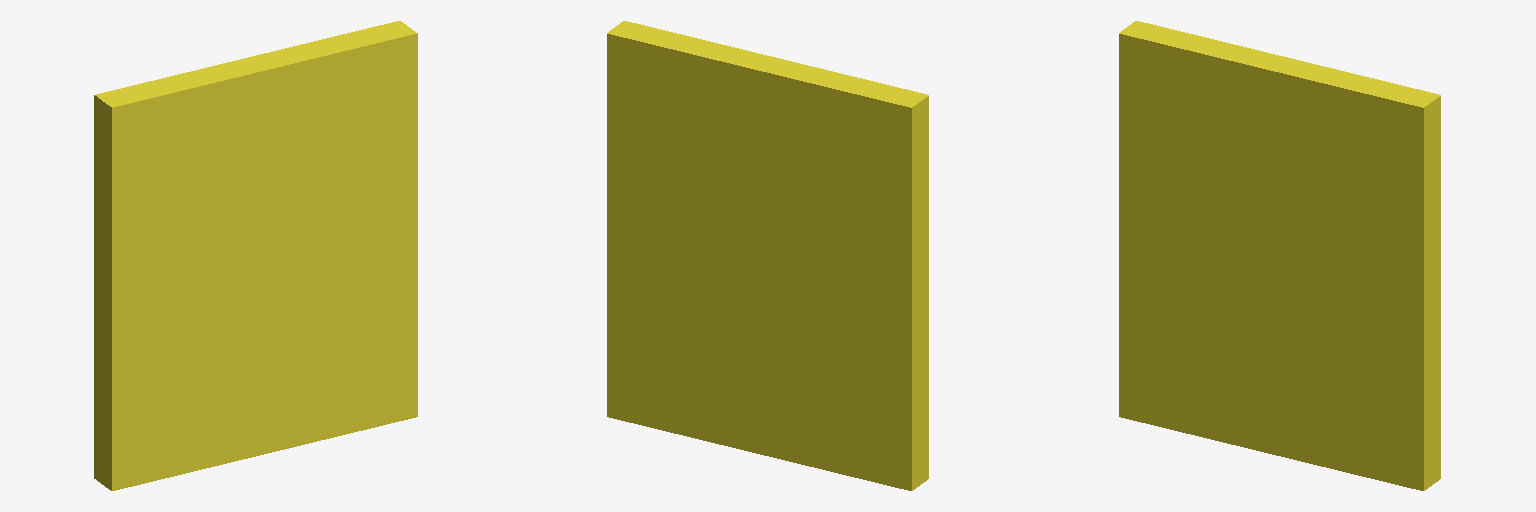
The robot description file, URDF, robot "fetch":
<robot name="fetch">
  <link name="base_link">
    <inertial>
      <origin rpy="0 0 0" xyz="-0.0036 0.0 0.0014" />
      <mass value="70.1294" />
      <inertia ixx="1.225" ixy="0.0099" ixz="0.0062" iyy="1.2853" iyz="-0.0034" izz="0.987" />
    </inertial>
    <visual>
      <origin rpy="0 0 0" xyz="0 0 0" />
      <geometry>
        <mesh filename="package://robowflex_resources/fetch/meshes/base_link.dae" />
      </geometry>
      <material name="">
        <color rgba="0.356 0.361 0.376 1" />
      </material>
    </visual>
    <collision>
      <origin rpy="0 0 0" xyz="0 0 0" />
      <geometry>
        <mesh filename="package://robowflex_resources/fetch/meshes/base_link_collision.STL" />
      </geometry>
    </collision>
  </link>
  <link name="r_wheel_link">
    <inertial>
      <origin rpy="0 0 0" xyz="0 0 0" />
      <mass value="4.3542" />
      <inertia ixx="0.0045" ixy="0" ixz="0" iyy="0.005" iyz="0" izz="0.0045" />
    </inertial>
    <visual>
      <origin rpy="0 0 0" xyz="0 0 0" />
      <geometry>
        <mesh filename="package://robowflex_resources/fetch/meshes/r_wheel_link.STL" />
      </geometry>
      <material name="">
        <color rgba="0.086 0.506 0.767 1" />
      </material>
    </visual>
    <collision>
      <origin rpy="0 0 0" xyz="0 0 0" />
      <geometry>
        <mesh filename="package://robowflex_resources/fetch/meshes/r_wheel_link_collision.STL" />
      </geometry>
    </collision>
  </link>
  <joint name="r_wheel_joint" type="continuous">
    <origin rpy="-6.123E-17 0 0" xyz="0.0012914 -0.18738 0.055325" />
    <parent link="base_link" />
    <child link="r_wheel_link" />
    <axis xyz="0 1 0" />
  <limit effort="8.85" velocity="17.4" /></joint>
  <link name="l_wheel_link">
    <inertial>
      <origin rpy="0 0 0" xyz="0 0 0" />
      <mass value="4.3542" />
      <inertia ixx="0.0045" ixy="0" ixz="0" iyy="0.005" iyz="0" izz="0.0045" />
    </inertial>
    <visual>
      <origin rpy="0 0 0" xyz="0 0 0" />
      <geometry>
        <mesh filename="package://robowflex_resources/fetch/meshes/l_wheel_link.STL" />
      </geometry>
      <material name="">
        <color rgba="0.086 0.506 0.767 1" />
      </material>
    </visual>
    <collision>
      <origin rpy="0 0 0" xyz="0 0 0" />
      <geometry>
        <mesh filename="package://robowflex_resources/fetch/meshes/l_wheel_link_collision.STL" />
      </geometry>
    </collision>
  </link>
  <joint name="l_wheel_joint" type="continuous">
    <origin rpy="-6.123E-17 0 0" xyz="0.0012914 0.18738 0.055325" />
    <parent link="base_link" />
    <child link="l_wheel_link" />
    <axis xyz="0 1 0" />
  <limit effort="8.85" velocity="17.4" /></joint>
  <link name="torso_lift_link">
    <inertial>
      <origin rpy="0 0 0" xyz="-0.0013 -0.0009 0.2935" />
      <mass value="10.7796" />
      <inertia ixx="0.3354" ixy="0.0" ixz="-0.0162" iyy="0.3354" iyz="-0.0006" izz="0.0954" />
    </inertial>
    <visual>
      <origin rpy="0 0 0" xyz="0 0 0" />
      <geometry>
        <mesh filename="package://robowflex_resources/fetch/meshes/torso_lift_link.dae" />
      </geometry>
      <material name="">
        <color rgba="1 1 1 1" />
      </material>
    </visual>
    <collision>
      <origin rpy="0 0 0" xyz="0 0 0" />
      <geometry>
        <mesh filename="package://robowflex_resources/fetch/meshes/torso_lift_link_collision.STL" />
      </geometry>
    </collision>
  </link>
  <joint name="torso_lift_joint" type="prismatic">
    <origin rpy="-6.123E-17 0 0" xyz="-0.086875 0 0.37743" />
    <parent link="base_link" />
    <child link="torso_lift_link" />
    <axis xyz="0 0 1" />
    <limit effort="450.0" lower="0" upper="0.38615" velocity="0.1" />
  <dynamics damping="100.0" /></joint>
  <link name="head_pan_link">
    <inertial>
      <origin rpy="0 0 0" xyz="0.0321 0.0161 0.0390" />
      <mass value="2.2556" />
      <inertia ixx="0.0129" ixy="0.0002" ixz="0.0007" iyy="0.0095" iyz="-0.0" izz="0.0184" />
    </inertial>
    <visual>
      <origin rpy="0 0 0" xyz="0 0 0" />
      <geometry>
        <mesh filename="package://robowflex_resources/fetch/meshes/head_pan_link.dae" />
      </geometry>
      <material name="">
        <color rgba="0.356 0.361 0.376 1" />
      </material>
    </visual>
    <collision>
      <origin rpy="0 0 0" xyz="0 0 0" />
      <geometry>
        <mesh filename="package://robowflex_resources/fetch/meshes/head_pan_link_collision.STL" />
      </geometry>
    </collision>
  </link>
  <joint name="head_pan_joint" type="revolute">
    <origin rpy="0 0 0" xyz="0.053125 0 0.603001417713939" />
    <parent link="torso_lift_link" />
    <child link="head_pan_link" />
    <axis xyz="0 0 1" />
  <limit effort="0.32" lower="-1.57" upper="1.57" velocity="1.57" /></joint>
  <link name="head_tilt_link">
    <inertial>
      <origin rpy="0 0 0" xyz="0.0081 0.0025 0.0113" />
      <mass value="0.9087" />
      <inertia ixx="0.0061" ixy="-0.0" ixz="0.0002" iyy="0.0014" iyz="-0.0001" izz="0.0061" />
    </inertial>
    <visual>
      <origin rpy="0 0 0" xyz="0 0 0" />
      <geometry>
        <mesh filename="package://robowflex_resources/fetch/meshes/head_tilt_link.dae" />
      </geometry>
      <material name="">
        <color rgba="0.086 0.506 0.767 1" />
      </material>
    </visual>
    <collision>
      <origin rpy="0 0 0" xyz="0 0 0" />
      <geometry>
        <mesh filename="package://robowflex_resources/fetch/meshes/head_tilt_link_collision.STL" />
      </geometry>
    </collision>
  </link>
  <joint name="head_tilt_joint" type="revolute">
    <origin rpy="0 0 0" xyz="0.14253 0 0.057999" />
    <parent link="head_pan_link" />
    <child link="head_tilt_link" />
    <axis xyz="0 1 0" />
    <limit effort="0.68" lower="-0.76" upper="1.45" velocity="1.57" />
  </joint>
  <link name="shoulder_pan_link">
    <inertial>
      <origin rpy="0 0 0" xyz="0.0927 -0.0056 0.0564" />
      <mass value="2.5587" />
      <inertia ixx="0.0043" ixy="-0.0001" ixz="0.001" iyy="0.0087" iyz="-0.0001" izz="0.0087" />
    </inertial>
    <visual>
      <origin rpy="0 0 0" xyz="0 0 0" />
      <geometry>
        <mesh filename="package://robowflex_resources/fetch/meshes/shoulder_pan_link.dae" />
      </geometry>
      <material name="">
        <color rgba="1 1 1 1" />
      </material>
    </visual>
    <collision>
      <origin rpy="0 0 0" xyz="0 0 0" />
      <geometry>
        <mesh filename="package://robowflex_resources/fetch/meshes/shoulder_pan_link_collision.STL" />
      </geometry>
    </collision>
  </link>
  <joint name="shoulder_pan_joint" type="revolute">
    <origin rpy="0 0 0" xyz="0.119525 0 0.34858" />
    <parent link="torso_lift_link" />
    <child link="shoulder_pan_link" />
    <axis xyz="0 0 1" />
    <dynamics damping="1.0" />
    <limit effort="33.82" lower="-1.6056" upper="1.6056" velocity="1.256" />
  </joint>
  <link name="shoulder_lift_link">
    <inertial>
      <origin rpy="0 0 0" xyz="0.1432 0.0072 -0.0001" />
      <mass value="2.6615" />
      <inertia ixx="0.0028" ixy="-0.0021" ixz="-0.0" iyy="0.0111" iyz="-0.0" izz="0.0112" />
    </inertial>
    <visual>
      <origin rpy="0 0 0" xyz="0 0 0" />
      <geometry>
        <mesh filename="package://robowflex_resources/fetch/meshes/shoulder_lift_link.dae" />
      </geometry>
      <material name="">
        <color rgba="0.086 0.506 0.767 1" />
      </material>
    </visual>
    <collision>
      <origin rpy="0 0 0" xyz="0 0 0" />
      <geometry>
        <mesh filename="package://robowflex_resources/fetch/meshes/shoulder_lift_link_collision.STL" />
      </geometry>
    </collision>
  </link>
  <joint name="shoulder_lift_joint" type="revolute">
    <origin rpy="0 0 0" xyz="0.117 0 0.0599999999999999" />
    <parent link="shoulder_pan_link" />
    <child link="shoulder_lift_link" />
    <axis xyz="0 1 0" />
    <dynamics damping="1.0" />
    <limit effort="131.76" lower="-1.221" upper="1.518" velocity="1.454" />
  </joint>
  <link name="upperarm_roll_link">
    <inertial>
      <origin rpy="0 0 0" xyz="0.1165 0.0014 0.0000" />
      <mass value="2.3311" />
      <inertia ixx="0.0019" ixy="-0.0001" ixz="0.0" iyy="0.0045" iyz="0.0" izz="0.0047" />
    </inertial>
    <visual>
      <origin rpy="0 0 0" xyz="0 0 0" />
      <geometry>
        <mesh filename="package://robowflex_resources/fetch/meshes/upperarm_roll_link.dae" />
      </geometry>
      <material name="">
        <color rgba="1 1 1 1" />
      </material>
    </visual>
    <collision>
      <origin rpy="0 0 0" xyz="0 0 0" />
      <geometry>
        <mesh filename="package://robowflex_resources/fetch/meshes/upperarm_roll_link_collision.STL" />
      </geometry>
    </collision>
  </link>
  <joint name="upperarm_roll_joint" type="continuous">
    <origin rpy="0 0 0" xyz="0.219 0 0" />
    <parent link="shoulder_lift_link" />
    <child link="upperarm_roll_link" />
    <axis xyz="1 0 0" />
    <dynamics damping="5.0" />
    <limit effort="76.94" velocity="1.571" />
  </joint>
  <link name="elbow_flex_link">
    <inertial>
      <origin rpy="0 0 0" xyz="0.1279 0.0073 0.0000" />
      <mass value="2.1299" />
      <inertia ixx="0.0024" ixy="-0.0016" ixz="0.0" iyy="0.0082" iyz="-0.0" izz="0.0084" />
    </inertial>
    <visual>
      <origin rpy="0 0 0" xyz="0 0 0" />
      <geometry>
        <mesh filename="package://robowflex_resources/fetch/meshes/elbow_flex_link.dae" />
      </geometry>
      <material name="">
        <color rgba="0.086 0.506 0.767 1" />
      </material>
    </visual>
    <collision>
      <origin rpy="0 0 0" xyz="0 0 0" />
      <geometry>
        <mesh filename="package://robowflex_resources/fetch/meshes/elbow_flex_link_collision.STL" />
      </geometry>
    </collision>
  </link>
  <joint name="elbow_flex_joint" type="revolute">
    <origin rpy="0 0 0" xyz="0.133 0 0" />
    <parent link="upperarm_roll_link" />
    <child link="elbow_flex_link" />
    <axis xyz="0 1 0" />
    <dynamics damping="1.0" />
    <limit effort="66.18" lower="-2.251" upper="2.251" velocity="1.521" />
  </joint>
  <link name="forearm_roll_link">
    <inertial>
      <origin rpy="0 0 0" xyz="0.1097 -0.0266 0.0000" />
      <mass value="1.6563" />
      <inertia ixx="0.0016" ixy="-0.0003" ixz="0.0" iyy="0.003" iyz="-0.0" izz="0.0035" />
    </inertial>
    <visual>
      <origin rpy="0 0 0" xyz="0 0 0" />
      <geometry>
        <mesh filename="package://robowflex_resources/fetch/meshes/forearm_roll_link.dae" />
      </geometry>
      <material name="">
        <color rgba="1 1 1 1" />
      </material>
    </visual>
    <collision>
      <origin rpy="0 0 0" xyz="0 0 0" />
      <geometry>
        <mesh filename="package://robowflex_resources/fetch/meshes/forearm_roll_link_collision.STL" />
      </geometry>
    </collision>
  </link>
  <joint name="forearm_roll_joint" type="continuous">
    <origin rpy="0 0 0" xyz="0.197 0 0" />
    <parent link="elbow_flex_link" />
    <child link="forearm_roll_link" />
    <axis xyz="1 0 0" />
    <dynamics damping="5.0" />
    <limit effort="29.35" velocity="1.571" />
  </joint>
  <link name="wrist_flex_link">
    <inertial>
      <origin rpy="0 0 0" xyz="0.0882 0.0009 -0.0001" />
      <mass value="1.725" />
      <inertia ixx="0.0018" ixy="-0.0001" ixz="-0.0" iyy="0.0042" iyz="0.0" izz="0.0042" />
    </inertial>
    <visual>
      <origin rpy="0 0 0" xyz="0 0 0" />
      <geometry>
        <mesh filename="package://robowflex_resources/fetch/meshes/wrist_flex_link.dae" />
      </geometry>
      <material name="">
        <color rgba="0.086 0.506 0.767 1" />
      </material>
    </visual>
    <collision>
      <origin rpy="0 0 0" xyz="0 0 0" />
      <geometry>
        <mesh filename="package://robowflex_resources/fetch/meshes/wrist_flex_link_collision.STL" />
      </geometry>
    </collision>
  </link>
  <joint name="wrist_flex_joint" type="revolute">
    <origin rpy="0 0 0" xyz="0.1245 0 0" />
    <parent link="forearm_roll_link" />
    <child link="wrist_flex_link" />
    <axis xyz="0 1 0" />
    <dynamics damping="1.0" />
    <limit effort="25.7" lower="-2.16" upper="2.16" velocity="2.268" />
  </joint>
  <link name="wrist_roll_link">
    <inertial>
      <origin rpy="0 0 0" xyz="0.0095 0.0004 -0.0002" />
      <mass value="0.1354" />
      <inertia ixx="0.0001" ixy="0.0" ixz="0.0" iyy="0.0001" iyz="0.0" izz="0.0001" />
    </inertial>
    <visual>
      <origin rpy="0 0 0" xyz="0 0 0" />
      <geometry>
        <mesh filename="package://robowflex_resources/fetch/meshes/wrist_roll_link.dae" />
      </geometry>
      <material name="">
        <color rgba="1 1 1 1" />
      </material>
    </visual>
    <collision>
      <origin rpy="0 0 0" xyz="0 0 0" />
      <geometry>
        <mesh filename="package://robowflex_resources/fetch/meshes/wrist_roll_link_collision.STL" />
      </geometry>
    </collision>
  </link>
  <joint name="wrist_roll_joint" type="continuous">
    <origin rpy="0 0 0" xyz="0.1385 0 0" />
    <parent link="wrist_flex_link" />
    <child link="wrist_roll_link" />
    <axis xyz="1 0 0" />
    <limit effort="7.36" velocity="2.268" />
    <dynamics damping="5.0" />
  </joint>
  <link name="gripper_link">
    <inertial>
      <origin rpy="0 0 0" xyz="-0.0900 -0.0001 -0.0017" />
      <mass value="1.5175" />
      <inertia ixx="0.0013" ixy="-0.0" ixz="0.0" iyy="0.0019" iyz="-0.0" izz="0.0024" />
    </inertial>
    <visual>
      <origin rpy="0 0 0" xyz="0 0 0" />
      <geometry>
        <mesh filename="package://robowflex_resources/fetch/meshes/gripper_link.dae" />
      </geometry>
    </visual>
    <collision>
      <origin rpy="0 0 0" xyz="0 0 0" />
      <geometry>
        <mesh filename="package://robowflex_resources/fetch/meshes/gripper_link.STL" />
      </geometry>
    </collision>
  </link>
  <joint name="gripper_axis" type="fixed">
    <origin rpy="0 0 0" xyz="0.16645 0 0" />
    <parent link="wrist_roll_link" />
    <child link="gripper_link" />
    <axis xyz="0 1 0" />
  </joint>
  <link name="r_gripper_finger_link">
    <inertial>
      <origin rpy="0 0 0" xyz="-0.01 0 0" />
      <mass value="0.0798" />
      <inertia ixx="0.002" ixy="0" ixz="0" iyy="0" iyz="0" izz="0" />
    </inertial>
    <visual>
      <origin rpy="0 0 0" xyz="0 0.101425 0" />
      <geometry>
        <mesh filename="package://robowflex_resources/fetch/meshes/r_gripper_finger_link.STL" />
      </geometry>
      <material name="">
        <color rgba="0.356 0.361 0.376 1" />
      </material>
    </visual>
    <collision>
      <origin rpy="0 0 0" xyz="0 0.101425 0" />
      <geometry>
        <mesh filename="package://robowflex_resources/fetch/meshes/r_gripper_finger_link.STL" />
      </geometry>
    </collision>
  </link>
  <joint name="r_gripper_finger_joint" type="prismatic">
    <origin rpy="0 0 0" xyz="0 0.015425 0" />
    <parent link="gripper_link" />
    <child link="r_gripper_finger_link" />
    <axis xyz="0 1 0" />
  <limit effort="60" lower="0.0" upper="0.05" velocity="0.05" /><dynamics damping="100.0" /></joint>
  <link name="l_gripper_finger_link">
    <inertial>
      <origin rpy="0 0 0" xyz="-0.01 0 0" />
      <mass value="0.0798" />
      <inertia ixx="0.002" ixy="0" ixz="0" iyy="0" iyz="0" izz="0" />
    </inertial>
    <visual>
      <origin rpy="0 0 0" xyz="0 -0.101425 0" />
      <geometry>
        <mesh filename="package://robowflex_resources/fetch/meshes/l_gripper_finger_link.STL" />
      </geometry>
      <material name="">
        <color rgba="0.356 0.361 0.376 1" />
      </material>
    </visual>
    <collision>
      <origin rpy="0 0 0" xyz="0 -0.101425 0" />
      <geometry>
        <mesh filename="package://robowflex_resources/fetch/meshes/l_gripper_finger_link.STL" />
      </geometry>
    </collision>
  </link>
  <joint name="l_gripper_finger_joint" type="prismatic">
    <origin rpy="0 0 0" xyz="0 -0.015425 0" />
    <parent link="gripper_link" />
    <child link="l_gripper_finger_link" />
    <axis xyz="0 -1 0" />
  <limit effort="60" lower="0.0" upper="0.05" velocity="0.05" /><dynamics damping="100.0" /></joint>
  <link name="bellows_link">
    <inertial>
      <origin rpy="0 0 0" xyz="0.0191320000286228 -1.67219873481315E-16 -0.134861625443387" />
      <mass value="0.169374038216602" />
      <inertia ixx="0.00331159128762117" ixy="-8.9230964321455E-18" ixz="-5.38622201018293E-08" iyy="0.00174447292786627" iyz="-8.06964979976371E-17" izz="0.00169417568121457" />
    </inertial>
    <visual>
      <origin rpy="0 0 0" xyz="0 0 0" />
      <geometry>
        <mesh filename="package://robowflex_resources/fetch/meshes/bellows_link.STL" />
      </geometry>
      <material name="">
        <color rgba="0 0 0 1" />
      </material>
    </visual>
    <collision>
      <origin rpy="0 0 0" xyz="0 0 0" />
      <geometry>
        <mesh filename="package://robowflex_resources/fetch/meshes/bellows_link_collision.STL" />
      </geometry>
    </collision>
  </link>
  <joint name="bellows_joint" type="prismatic">
    <origin rpy="0 0 0" xyz="0 0 0" />
    <parent link="torso_lift_link" />
    <child link="bellows_link" />
    <axis xyz="0 0 -1" />
  <limit effort="5.0" lower="0" upper="0.4" velocity="0.1" /></joint>
  <link name="bellows_link2">
    <inertial>
      <origin rpy="0 0 0" xyz="0.0191320000286228 -1.67219873481315E-16 -0.134861625443387" />
      <mass value="0.169374038216602" />
      <inertia ixx="0.00331159128762117" ixy="-8.9230964321455E-18" ixz="-5.38622201018293E-08" iyy="0.00174447292786627" iyz="-8.06964979976371E-17" izz="0.00169417568121457" />
    </inertial>
    <visual>
      <origin rpy="0 0 0" xyz="0 0 0" />
      <geometry>
        <mesh filename="package://robowflex_resources/fetch/meshes/bellows_link.STL" />
      </geometry>
      <material name="">
        <color rgba="0 0 0 1" />
      </material>
    </visual>
    <collision>
      <origin rpy="0 0 0" xyz="0 0 0" />
      <geometry>
        <mesh filename="package://robowflex_resources/fetch/meshes/bellows_link_collision.STL" />
      </geometry>
    </collision>
  </link>
  <joint name="bellows_joint2" type="fixed">
    <origin rpy="0 0 0" xyz="0 0 0" />
    <parent link="torso_lift_link" />
    <child link="bellows_link2" />
  </joint>
  <link name="estop_link">
    <inertial>
      <origin rpy="0 0 0" xyz="0.002434512737072 -0.00330608315239905 0.00665139196650039" />
      <mass value="0.00196130439134723" />
      <inertia ixx="3.02810026604417E-07" ixy="-1.5862023118056E-08" ixz="3.16561396557437E-08" iyy="2.93322917127605E-07" iyz="-4.28833522751273E-08" izz="2.28513272627183E-07" />
    </inertial>
    <visual>
      <origin rpy="0 0 0" xyz="0 0 0" />
      <geometry>
        <mesh filename="package://robowflex_resources/fetch/meshes/estop_link.dae" />
      </geometry>
      <material name="">
        <color rgba="0.8 0 0 1" />
      </material>
    </visual>
    <collision>
      <origin rpy="0 0 0" xyz="0 0 0" />
      <geometry>
        <mesh filename="package://robowflex_resources/fetch/meshes/estop_link.STL" />
      </geometry>
    </collision>
  </link>
  <joint name="estop_joint" type="fixed">
    <origin rpy="1.5708 0 0" xyz="-0.12465 0.23892 0.31127" />
    <parent link="base_link" />
    <child link="estop_link" />
    <axis xyz="0 0 0" />
  </joint>
  <link name="laser_link">
    <inertial>
      <origin rpy="0 0 0" xyz="-0.0306228970175641 0.0007091682908278 0.0551974119471302" />
      <mass value="0.00833634573995571" />
      <inertia ixx="1.01866461240801E-06" ixy="-5.88447626567756E-08" ixz="7.83857244757914E-08" iyy="5.10039589974707E-07" iyz="-7.12664289617235E-09" izz="1.28270671527309E-06" />
    </inertial>
    <visual>
      <origin rpy="0 0 0" xyz="0 0 0" />
      <geometry>
        <mesh filename="package://robowflex_resources/fetch/meshes/laser_link.STL" />
      </geometry>
      <material name="">
        <color rgba="0.792156862745098 0.819607843137255 0.933333333333333 1" />
      </material>
    </visual>
    <collision>
      <origin rpy="0 0 0" xyz="0 0 0" />
      <geometry>
        <mesh filename="package://robowflex_resources/fetch/meshes/laser_link.STL" />
      </geometry>
    </collision>
  </link>
  <joint name="laser_joint" type="fixed">
    <origin rpy="3.14159265359 0 0" xyz="0.235 0 0.2878" />
    <parent link="base_link" />
    <child link="laser_link" />
    <axis xyz="0 0 0" />
  </joint>
  <link name="torso_fixed_link">
    <inertial>
      <origin rpy="0 0 0" xyz="-0.0722 0.0057 0.2656" />
      <mass value="13.2775" />
      <inertia ixx="0.3861" ixy="0.0015" ixz="-0.0102" iyy="0.3388" iyz="0.0117" izz="0.1018" />
    </inertial>
    <visual>
      <origin rpy="0 0 0" xyz="0 0 0" />
      <geometry>
        <mesh filename="package://robowflex_resources/fetch/meshes/torso_fixed_link.dae" />
      </geometry>
      <material name="">
        <color rgba="0.086 0.506 0.767 1" />
      </material>
    </visual>
    <collision>
      <origin rpy="0 0 0" xyz="0 0 0" />
      <geometry>
        <mesh filename="package://robowflex_resources/fetch/meshes/torso_fixed_link.STL" />
      </geometry>
    </collision>
  </link>
  <joint name="torso_fixed_joint" type="fixed">
    <origin rpy="-6.12303176911189E-17 0 0" xyz="-0.086875 0 0.377425" />
    <parent link="base_link" />
    <child link="torso_fixed_link" />
    <axis xyz="0 1 0" />
  </joint>
  <link name="head_camera_link" />
  <joint name="head_camera_joint" type="fixed">
    <origin rpy="0 0 0" xyz="0.055 0 0.0225" />
    <parent link="head_tilt_link" />
    <child link="head_camera_link" />
  </joint>
  <link name="head_camera_rgb_frame" />
  <joint name="head_camera_rgb_joint" type="fixed">
    <origin rpy="0 0 0" xyz="0 0.02 0" />
    <parent link="head_camera_link" />
    <child link="head_camera_rgb_frame" />
  </joint>
  <link name="head_camera_rgb_optical_frame" />
  <joint name="head_camera_rgb_optical_joint" type="fixed">
    <origin rpy="-1.57079632679 0 -1.57079632679" xyz="0 0 0" />
    <parent link="head_camera_rgb_frame" />
    <child link="head_camera_rgb_optical_frame" />
  </joint>
  <link name="head_camera_depth_frame" />
  <joint name="head_camera_depth_joint" type="fixed">
    <origin rpy="0 0 0" xyz="0 0.045 0" />
    <parent link="head_camera_link" />
    <child link="head_camera_depth_frame" />
  </joint>
  <link name="head_camera_depth_optical_frame" />
  <joint name="head_camera_depth_optical_joint" type="fixed">
    <origin rpy="-1.57079632679 0 -1.57079632679" xyz="0 0 0" />
    <parent link="head_camera_depth_frame" />
    <child link="head_camera_depth_optical_frame" />
  </joint>


  <link name ="door_link" />
  <joint name= "door_link_base_joint" type="fixed">
    <origin rpy="0 0 0" xyz="0.35 -0.1 0" />
    <parent link= "base_link" />
    <child link= "door_link" />
  </joint>

  <link name="door">
        <visual>
         <geometry>
             <box size="0.6 0.5 0.05"/>
         </geometry>   
         <origin rpy="0.0 1.57075 1.57" xyz="0.25 0 0.3"/>
        </visual>         
  </link>

    <joint name="base_to_door" type="revolute">
        <parent link="door_link"/>
        <child link="door"/>
        <origin xyz="0.00 0.0 0.0"/>
        <axis xyz="0.0 0.0 1"/>
        <limit lower="-1.57" upper="1.57" effort="0.32" velocity="1.57"/>
    </joint>

</robot>

--- Render facts (derived) ---
3 views of the same robot in one strip: view 1: azimuth 30°, elevation 25°; view 2: azimuth 150°, elevation 25°; view 3: azimuth 330°, elevation 25° (orthographic).
Model fetch with 28 links and 27 joints (7 revolute, 5 continuous, 4 prismatic, 11 fixed), rooted at base_link, posed all joints at 0.
Visible links, largest first — view 1: door; view 2: door; view 3: door.
Link boxes in pixels (left/top/right/bottom): door: left=94, top=21, right=417, bottom=490; door: left=607, top=21, right=928, bottom=490; door: left=1119, top=21, right=1440, bottom=490.
Size in the robot's own frame: 0.5 by 0.0504 by 0.6 metres.
0 mesh visuals loaded from 20 distinct referenced files (none loaded); not drawn: 21 (reference not matched to a file when rendering).